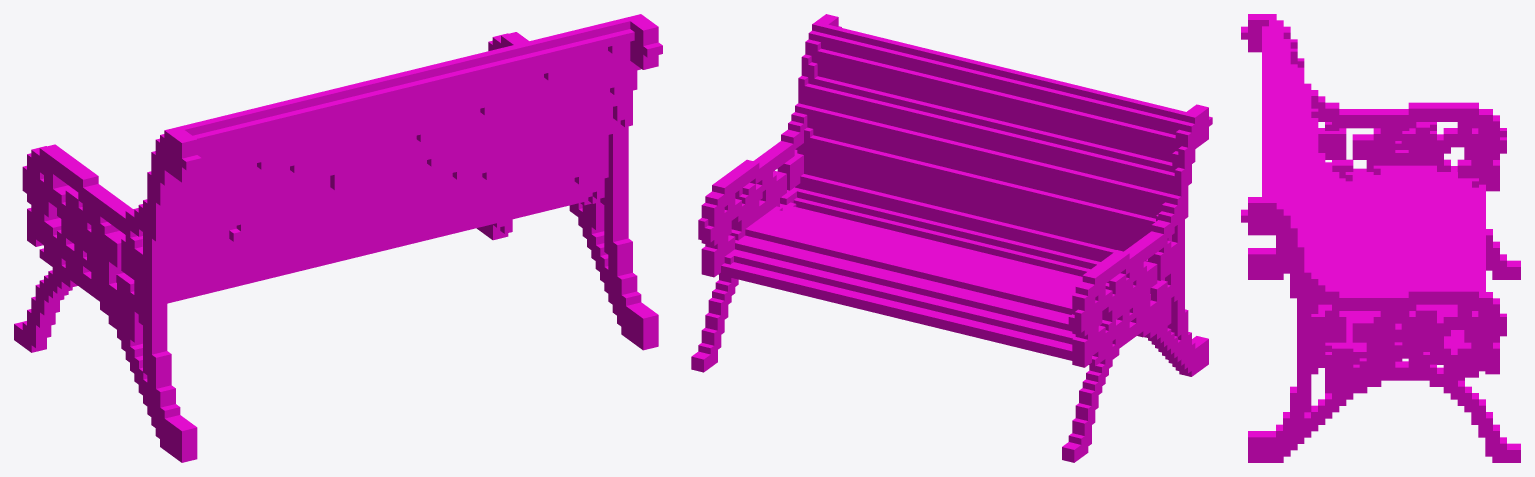
The model's file is wooden_bench.glb.
The picture shows the model from 3 angles, left to right: view 1: azimuth 30°, elevation 25°; view 2: azimuth 150°, elevation 25°; view 3: azimuth 270°, elevation 25°; orthographic projection. The views are drawn at different scales.
Parts seen in each view (by area): view 1: col_wall_49, col_wall_48, col_roof_33, col_roof_34, col_roof_26, col_wall_43, col_wall_41, col_wall_59, col_roof_09, col_roof_11, col_wall_54, col_roof_31 (+37 smaller); view 2: col_wall_43, col_wall_41, col_block_44, col_wall_45, col_wall_48, col_wall_49, col_block_45, col_block_43, col_roof_20, col_roof_18, col_wall_59, col_wall_25 (+55 smaller); view 3: col_block_43, col_block_44, col_wall_22, col_wall_26, col_wall_21, col_column_48, col_block_02, col_block_01, col_column_16, col_column_10, col_wall_25, col_column_30 (+83 smaller).
Boxes of the visible parts, box(x1,y1,x2,y2) form: col_wall_49: box(348, 173, 504, 232); col_wall_48: box(192, 198, 348, 270); col_roof_33: box(262, 68, 422, 141); col_roof_34: box(418, 37, 548, 103); col_roof_26: box(321, 90, 477, 147); col_wall_43: box(321, 201, 477, 258); col_wall_41: box(167, 239, 322, 296); col_wall_59: box(316, 145, 457, 205); col_roof_09: box(171, 165, 327, 214); col_roof_11: box(446, 90, 602, 147); col_wall_54: box(236, 179, 315, 231); col_roof_31: box(544, 14, 645, 80); col_wall_43: box(905, 158, 1033, 228); col_wall_41: box(1030, 189, 1155, 251); col_block_44: box(846, 233, 999, 290); col_wall_45: box(809, 135, 908, 198); col_wall_48: box(1016, 157, 1144, 214); col_wall_49: box(890, 126, 1018, 184); col_block_45: box(750, 210, 874, 259); col_block_43: box(971, 264, 1079, 314); col_roof_20: box(823, 50, 921, 100); col_roof_18: box(1080, 113, 1172, 161); col_wall_59: box(935, 115, 1052, 164); col_wall_25: box(836, 260, 971, 304); col_block_43: box(1380, 168, 1436, 230); col_block_44: box(1380, 230, 1436, 291); col_wall_22: box(1352, 174, 1380, 236); col_wall_26: box(1352, 236, 1380, 291); col_wall_21: box(1437, 174, 1457, 236); col_column_48: box(1380, 292, 1395, 367); col_block_02: box(1248, 431, 1283, 462); col_block_01: box(1248, 248, 1283, 279); col_column_16: box(1304, 279, 1311, 412); col_column_10: box(1297, 310, 1304, 443); col_wall_25: box(1437, 236, 1457, 285); col_column_30: box(1366, 317, 1381, 386).
Size of the model in its own units: 304 by 192 by 187.
